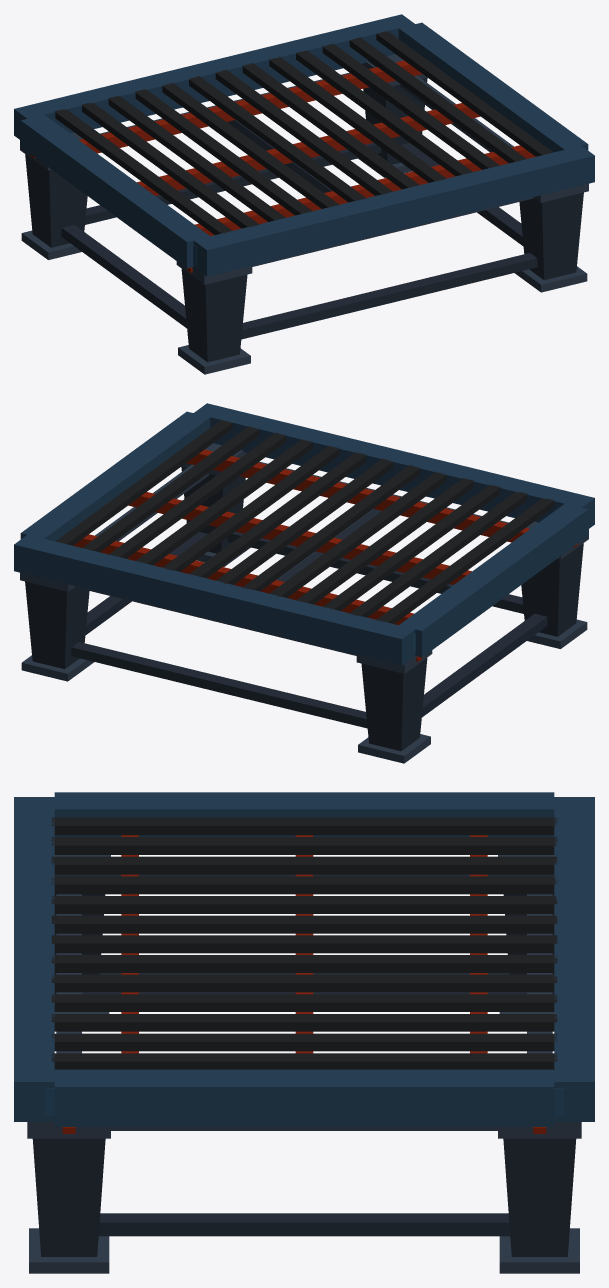
File: metal_grate_platform_supported.obj
3 views of the same model, one above another, from view 1: azimuth 30°, elevation 25°; view 2: azimuth 150°, elevation 25°; view 3: azimuth 270°, elevation 25° (orthographic). The views are drawn at different scales.
Visible parts, largest first — view 1: metal_grate_platform_supported; view 2: metal_grate_platform_supported; view 3: metal_grate_platform_supported.
Boxes of the visible parts, <box> form: metal_grate_platform_supported: <box>14,14,594,374</box>; metal_grate_platform_supported: <box>14,403,594,763</box>; metal_grate_platform_supported: <box>14,792,594,1273</box>.
Bounding box in the file's own units: 12 × 3.68 × 10.
